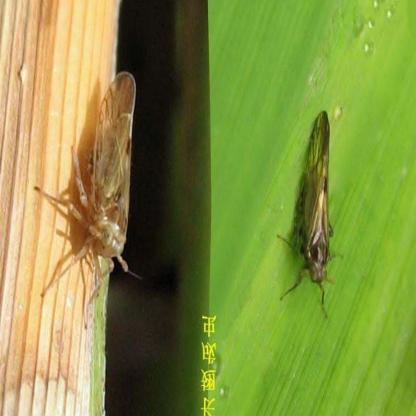brown-planthopper: (86, 70, 136, 276), (298, 108, 336, 288)
